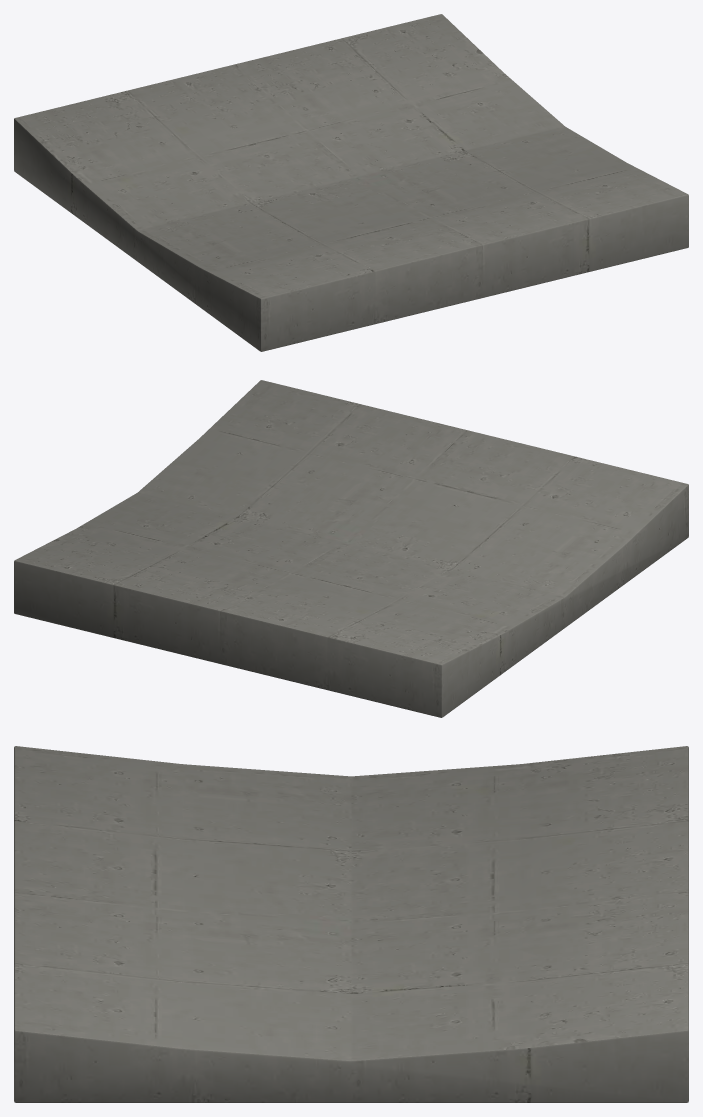
File: PAV-GUI-004.glb
3 views of the same model, one above another, from view 1: azimuth 30°, elevation 25°; view 2: azimuth 150°, elevation 25°; view 3: azimuth 270°, elevation 25° (orthographic). The views are drawn at different scales.
Visible parts, largest first — view 1: PAV-GUI-004_peca; view 2: PAV-GUI-004_peca; view 3: PAV-GUI-004_peca.
Boxes of the visible parts, bbox=[...] form: PAV-GUI-004_peca: bbox=[14, 14, 688, 351]; PAV-GUI-004_peca: bbox=[14, 380, 688, 717]; PAV-GUI-004_peca: bbox=[14, 746, 688, 1102].
Bounding box in the file's own units: 1 × 0.1196 × 1.
1 material, 1 textured.
